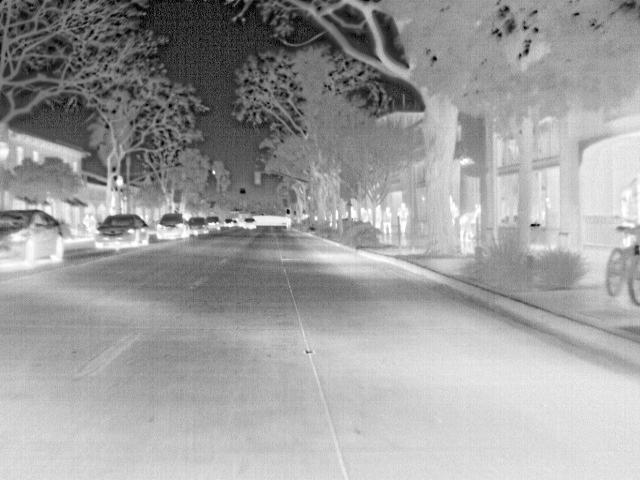car: (0, 205, 69, 272), (91, 212, 151, 252), (156, 213, 190, 241), (182, 216, 209, 236), (240, 214, 260, 232), (203, 218, 221, 234), (222, 218, 237, 228)
person: (396, 200, 413, 240), (619, 190, 634, 226), (380, 206, 396, 236), (373, 203, 386, 228)
